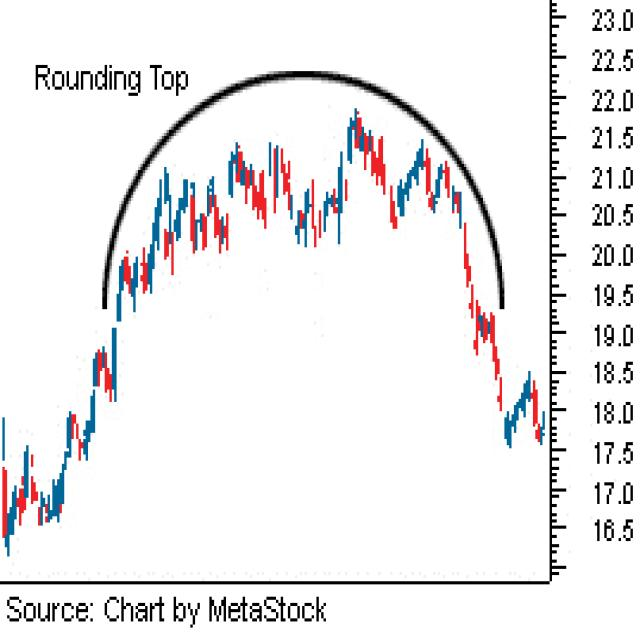Rounding-Top: (97, 93, 510, 311)
